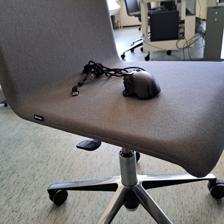mouse: (122, 68, 161, 100)
